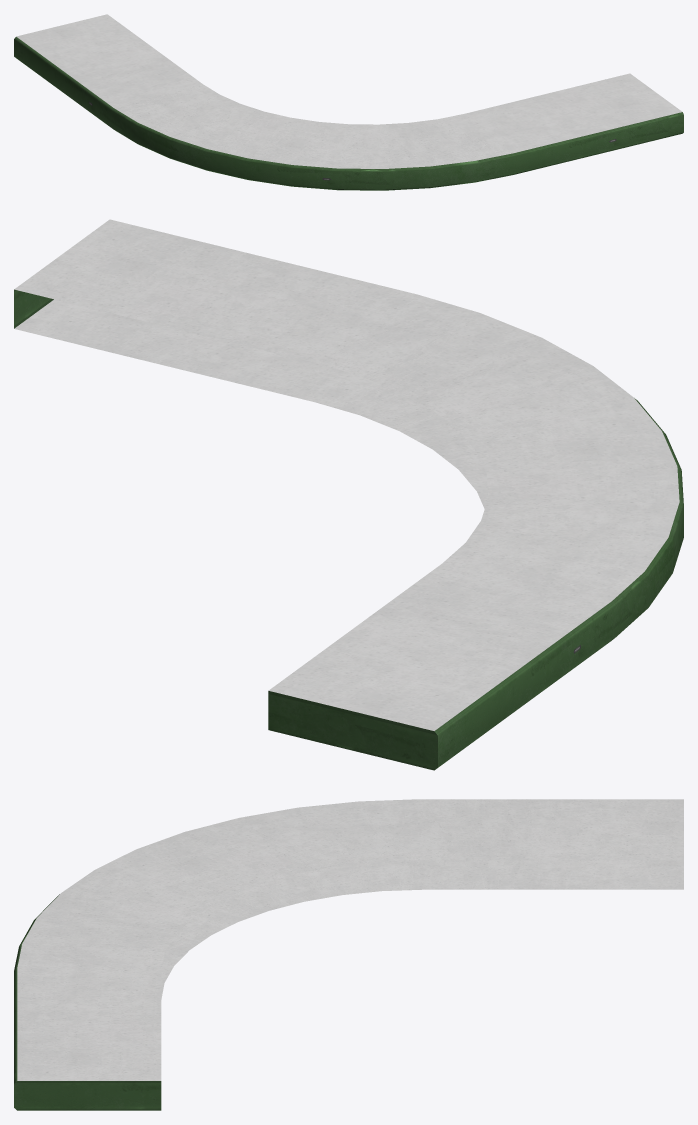
The model's file is MB_Molding_D_Angle_01.fbx.
3 views of the same model, one above another, from view 1: azimuth 30°, elevation 25°; view 2: azimuth 150°, elevation 25°; view 3: azimuth 270°, elevation 25° (orthographic). The views are drawn at different scales.
Parts seen in each view (by area): view 1: MB_Molding_Angle_D_01; view 2: MB_Molding_Angle_D_01; view 3: MB_Molding_Angle_D_01.
Part boxes in pixels (x1,y1,x2,y2): MB_Molding_Angle_D_01: (14,14,683,190); MB_Molding_Angle_D_01: (14,219,683,770); MB_Molding_Angle_D_01: (14,799,683,1110).
Bounding box in the file's own units: 513 × 25 × 513.
